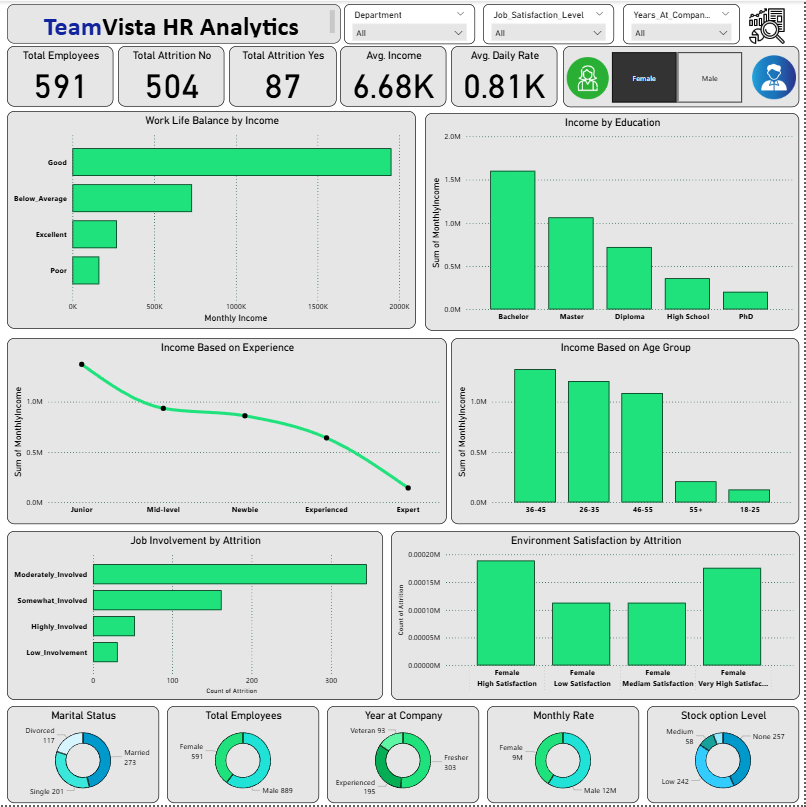

The page's visual inventory and layout, read from the dashboard file:
{"tool":"powerbi","page":{"name":"HR_Analysis_Gender_Wise","canvas":[1300,1300],"ordinal":0},"visuals":[{"type":"textbox","box":[11.4,5.2,540.3,64.4],"z":0},{"type":"card","title":"Total Attrition Yes","fields":{"Values":["Hr_data.Attrition Count Yes"]},"box":[369.9,72.7,173.5,97.7],"z":1000},{"type":"card","title":"Total Attrition No","fields":{"Values":["Hr_data.Attrition Count No"]},"box":[190.6,72.5,172.5,97.7],"z":2000},{"type":"card","title":"Total Employees","fields":{"Values":["Hr_data.Total Employees"]},"box":[11.4,72.5,172.5,97.7],"z":3000},{"type":"card","title":"Avg. Income","fields":{"Values":["Hr_data.Average Income"]},"box":[550.1,72.5,172.5,97.7],"z":4000},{"type":"card","title":"Avg. Daily Rate","fields":{"Values":["Avg(Hr_data.DailyRate)"]},"box":[729.4,72.5,172.5,97.7],"z":5000},{"type":"clusteredBarChart","title":"Work Life Balance by Income","fields":{"Category":["Hr_data.Work_life_balance_level"],"Y":["Sum(Hr_data.MonthlyIncome)"],"Series":["Hr_data.Gender"]},"box":[11.3,177.9,661.3,352.5],"z":6000},{"type":"columnChart","title":"Income by Education","fields":{"Category":["Hr_data.Education_Level"],"Y":["Sum(Hr_data.MonthlyIncome)"],"Series":["Hr_data.Gender"]},"box":[687.2,181.1,604.7,352.5],"z":7000},{"type":"lineChart","title":"Income Based on Experience ","fields":{"Category":["Hr_data.Total_Working_Years_Group"],"Y":["Sum(Hr_data.MonthlyIncome)"],"Series":["Hr_data.Gender"]},"box":[11.3,544.9,711.4,300.7],"z":8000},{"type":"clusteredBarChart","title":"Job Involvement by Attrition","fields":{"Category":["Hr_data.Job_involment_Level"],"Y":["CountNonNull(Hr_data.Attrition)"],"Series":["Hr_data.Gender"]},"box":[11.3,857,608,273.3],"z":9000},{"type":"donutChart","title":"Marital Status ","fields":{"Category":["Hr_data.MaritalStatus"],"Y":["CountNonNull(Hr_data.Gender)"]},"box":[11.3,1139.3,245.8,156.8],"z":10000},{"type":"donutChart","title":"Year at Company ","fields":{"Category":["Hr_data.Years_At_Company_group"],"Y":["CountNonNull(Hr_data.Gender)"]},"box":[528.7,1139.3,245.8,156.8],"z":11000},{"type":"donutChart","title":"Stock option Level ","fields":{"Category":["Hr_data.Stock_option_level"],"Y":["CountNonNull(Hr_data.Gender)"]},"box":[1046.1,1139.3,245.8,156.8],"z":12000},{"type":"donutChart","title":"Monthly Rate","fields":{"Category":["Hr_data.Gender"],"Y":["Sum(Hr_data.MonthlyRate)"]},"box":[787.4,1139.3,245.8,156.8],"z":13000},{"type":"donutChart","title":"Total Employees ","fields":{"Category":["Hr_data.Gender"],"Y":["Hr_data.Total Employees"]},"box":[270,1139.3,245.8,156.8],"z":14000},{"type":"columnChart","title":"Environment Satisfaction by Attrition","fields":{"Category":["Hr_data.Env_Satisfaction_Level","Hr_data.Gender"],"Y":["CountNonNull(Hr_data.Attrition)"]},"box":[632.2,857,661.3,273.3],"z":15000},{"type":"clusteredColumnChart","title":"Income Based on Age Group","fields":{"Y":["Sum(Hr_data.MonthlyIncome)"],"Category":["Hr_data.AgeGroup"],"Series":["Hr_data.Gender"]},"box":[729.2,544.9,562.7,300.7],"z":16000},{"type":"textbox","box":[910.3,72.8,381.6,98.6],"z":17000},{"type":"slicer","fields":{"Values":["Hr_data.Gender"]},"box":[963.7,76,260.3,95.4],"z":18000},{"type":"slicer","fields":{"Values":["Hr_data.Department"]},"box":[556.2,4.9,211.8,64.7],"z":19000},{"type":"slicer","fields":{"Values":["Hr_data.Years_At_Company_group"]},"box":[1007.3,4.9,189.2,64.7],"z":20000},{"type":"slicer","fields":{"Values":["Hr_data.Job_Satisfaction_Level"]},"box":[781,4.9,211.8,64.7],"z":21000},{"type":"image","box":[1211.1,80.8,80.8,85.7],"z":22000},{"type":"image","box":[910.3,85.7,79.2,77.6],"z":23000},{"type":"image","box":[1204.6,0,71.1,80.8],"z":24000}]}

Visuals, with their boxes in screenshot pixels (x1, y1, x2, y2), scaled from the page's 1300x1300 canvas onto the 806x807 screenshot:
textbox: (x1=7, y1=3, x2=342, y2=43)
"Total Attrition Yes" card: (x1=229, y1=45, x2=337, y2=106)
"Total Attrition No" card: (x1=118, y1=45, x2=225, y2=106)
"Total Employees" card: (x1=7, y1=45, x2=114, y2=106)
"Avg. Income" card: (x1=341, y1=45, x2=448, y2=106)
"Avg. Daily Rate" card: (x1=452, y1=45, x2=559, y2=106)
"Work Life Balance by Income" clusteredBarChart: (x1=7, y1=110, x2=417, y2=329)
"Income by Education" columnChart: (x1=426, y1=112, x2=801, y2=331)
"Income Based on Experience " lineChart: (x1=7, y1=338, x2=448, y2=525)
"Job Involvement by Attrition" clusteredBarChart: (x1=7, y1=532, x2=384, y2=702)
"Marital Status " donutChart: (x1=7, y1=707, x2=159, y2=805)
"Year at Company " donutChart: (x1=328, y1=707, x2=480, y2=805)
"Stock option Level " donutChart: (x1=649, y1=707, x2=801, y2=805)
"Monthly Rate" donutChart: (x1=488, y1=707, x2=641, y2=805)
"Total Employees " donutChart: (x1=167, y1=707, x2=320, y2=805)
"Environment Satisfaction by Attrition" columnChart: (x1=392, y1=532, x2=802, y2=702)
"Income Based on Age Group" clusteredColumnChart: (x1=452, y1=338, x2=801, y2=525)
textbox: (x1=564, y1=45, x2=801, y2=106)
slicer - Hr_data.Gender: (x1=597, y1=47, x2=759, y2=106)
slicer - Hr_data.Department: (x1=345, y1=3, x2=476, y2=43)
slicer - Hr_data.Years_At_Company_group: (x1=625, y1=3, x2=742, y2=43)
slicer - Hr_data.Job_Satisfaction_Level: (x1=484, y1=3, x2=616, y2=43)
image: (x1=751, y1=50, x2=801, y2=103)
image: (x1=564, y1=53, x2=613, y2=101)
image: (x1=747, y1=0, x2=791, y2=50)
